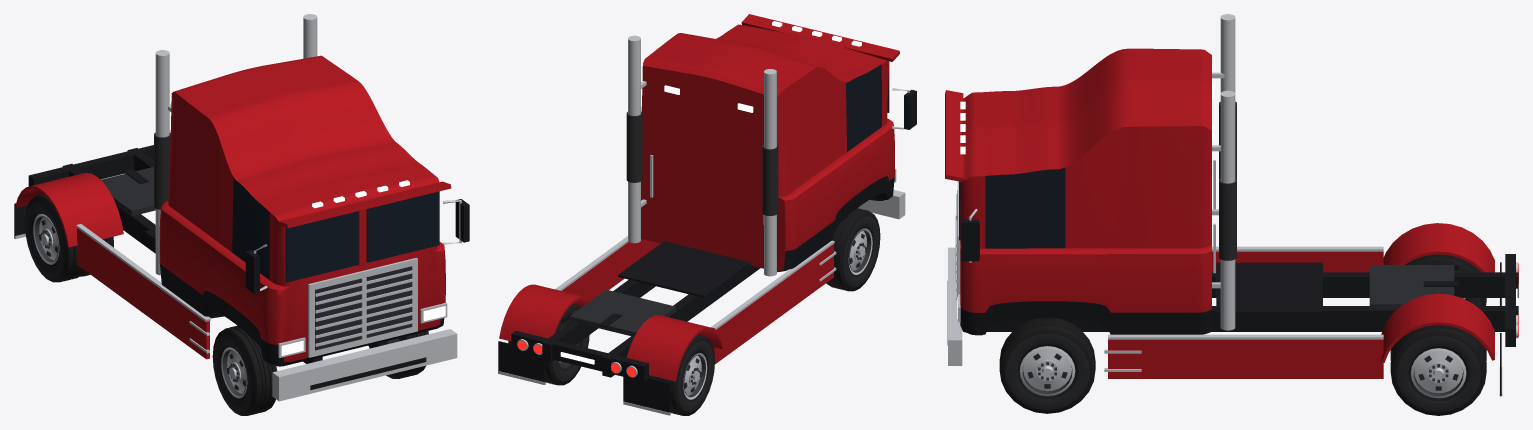
The model's file is semi.glb.
3 views of the same model, side by side, from view 1: azimuth 30°, elevation 25°; view 2: azimuth 150°, elevation 25°; view 3: azimuth 270°, elevation 25° (orthographic). The views are drawn at different scales.
Parts seen in each view (by area): view 1: body, wheel_FR, wheel_RR; view 2: body, wheel_FR, wheel_RR, wheel_RL; view 3: body, wheel_FL, wheel_RL, wheel_RR.
Part boxes in pixels (<box>): body: <box>14,14,469,401</box>; wheel_FR: <box>212,325,277,415</box>; wheel_RR: <box>24,193,113,282</box>; body: <box>498,14,916,415</box>; wheel_FR: <box>826,208,880,291</box>; wheel_RR: <box>649,334,714,415</box>; wheel_RL: <box>508,304,589,385</box>; body: <box>945,14,1518,396</box>; wheel_FL: <box>999,318,1095,413</box>; wheel_RL: <box>1390,325,1486,415</box>; wheel_RR: <box>1405,254,1486,305</box>.
Size of the model in its own units: 2.98 by 3.9 by 6.46.
